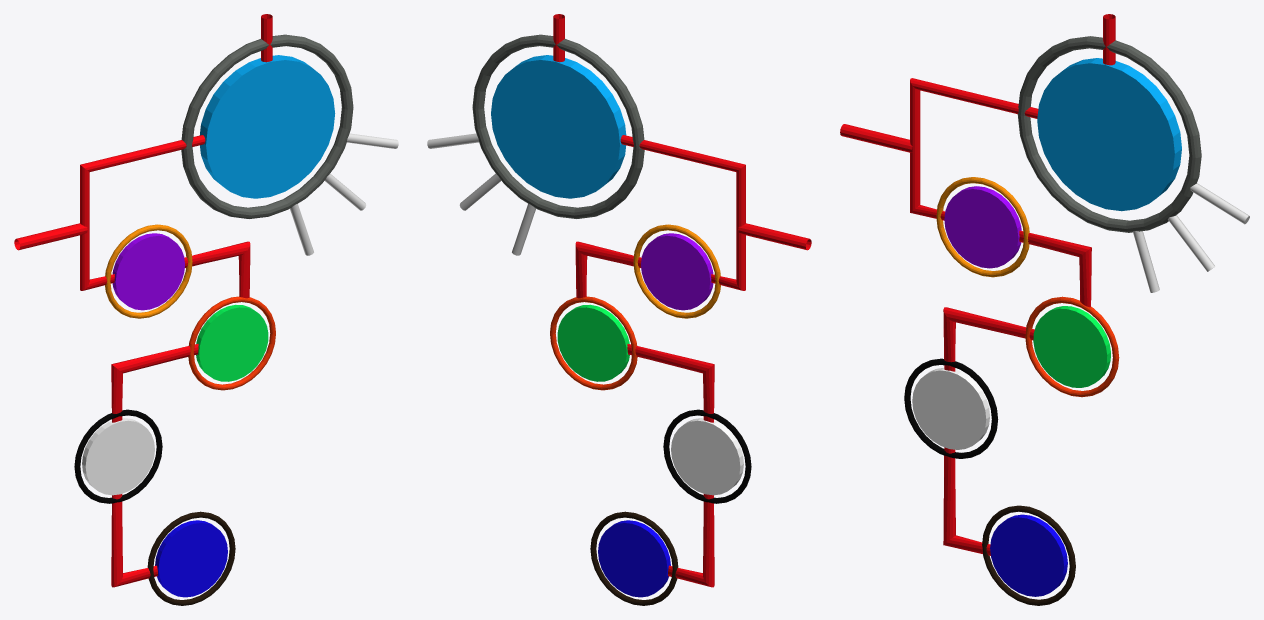
File: 3 vite.FBX
3 views of the same model, side by side, from view 1: azimuth 30°, elevation 25°; view 2: azimuth 150°, elevation 25°; view 3: azimuth 330°, elevation 25° (orthographic). The views are drawn at different scales.
Parts seen in each view (by area): view 1: Cerchio Vita, Struttura, Object001, PowerUp_01, PowerUp_04, PowerUp_02, PowerUp_03, Anello_04, Anello_01, Anello_02, Anello_03, Cylinder001; view 2: Cerchio Vita, Struttura, Object001, PowerUp_01, PowerUp_04, PowerUp_02, PowerUp_03, Anello_04, Anello_01, Anello_02, Anello_03, Cylinder001; view 3: Cerchio Vita, Struttura, Object001, PowerUp_04, PowerUp_02, PowerUp_01, PowerUp_03, Cylinder001, Anello_04, Anello_01, Anello_03, Anello_02.
Boxes of the visible parts, box(x1,y1,x2,y2) form: Cerchio Vita: box(199, 55, 335, 198); Struttura: box(14, 14, 272, 587); Object001: box(181, 34, 353, 218); PowerUp_01: box(112, 233, 184, 310); PowerUp_04: box(155, 520, 227, 597); PowerUp_02: box(196, 304, 268, 381); PowerUp_03: box(82, 418, 154, 495); Anello_04: box(147, 511, 235, 605); Anello_01: box(105, 224, 192, 318); Anello_02: box(188, 296, 275, 390); Anello_03: box(74, 409, 162, 503); Cylinder001: box(290, 133, 398, 255); Cerchio Vita: box(491, 55, 626, 198); Struttura: box(553, 14, 811, 587); Object001: box(472, 34, 644, 218); PowerUp_01: box(641, 233, 713, 310); PowerUp_04: box(598, 520, 670, 597); PowerUp_02: box(557, 304, 629, 381); PowerUp_03: box(671, 418, 743, 495); Anello_04: box(590, 511, 678, 605); Anello_01: box(633, 224, 720, 318); Anello_02: box(550, 296, 637, 390); Anello_03: box(663, 409, 751, 503); Cylinder001: box(427, 133, 535, 255); Cerchio Vita: box(1037, 58, 1181, 211); Struttura: box(840, 14, 1115, 555); Object001: box(1017, 36, 1201, 232); PowerUp_04: box(990, 514, 1067, 596); PowerUp_02: box(1033, 306, 1110, 387); PowerUp_01: box(944, 186, 1021, 268); PowerUp_03: box(912, 368, 989, 449); Cylinder001: box(1133, 183, 1249, 292); Anello_04: box(982, 505, 1075, 605); Anello_01: box(936, 177, 1029, 277); Anello_03: box(904, 358, 998, 458); Anello_02: box(1025, 296, 1119, 397).
Size of the model in its own units: 142 by 203 by 4.37.
